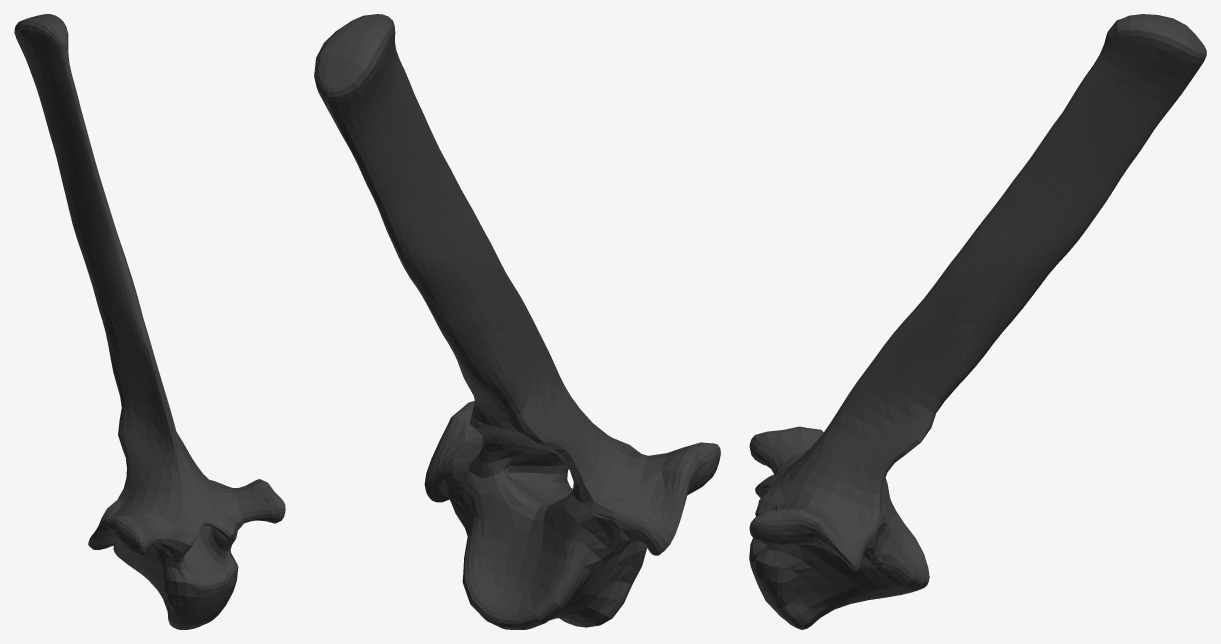
3 renders of one model, left to right at view 1: azimuth 30°, elevation 25°; view 2: azimuth 150°, elevation 25°; view 3: azimuth 270°, elevation 25°, orthographic. The views are drawn at different scales.
Parts seen in each view (by area): view 1: b_T4_LO; view 2: b_T4_LO; view 3: b_T4_LO.
Part boxes in pixels (bbox=[...]): b_T4_LO: bbox=[14, 14, 285, 629]; b_T4_LO: bbox=[314, 14, 720, 629]; b_T4_LO: bbox=[749, 14, 1206, 629].
Size of the model in its own units: 0.00096 by 0.00279 by 0.00191.
Materials: 1 (1 with a texture image).
